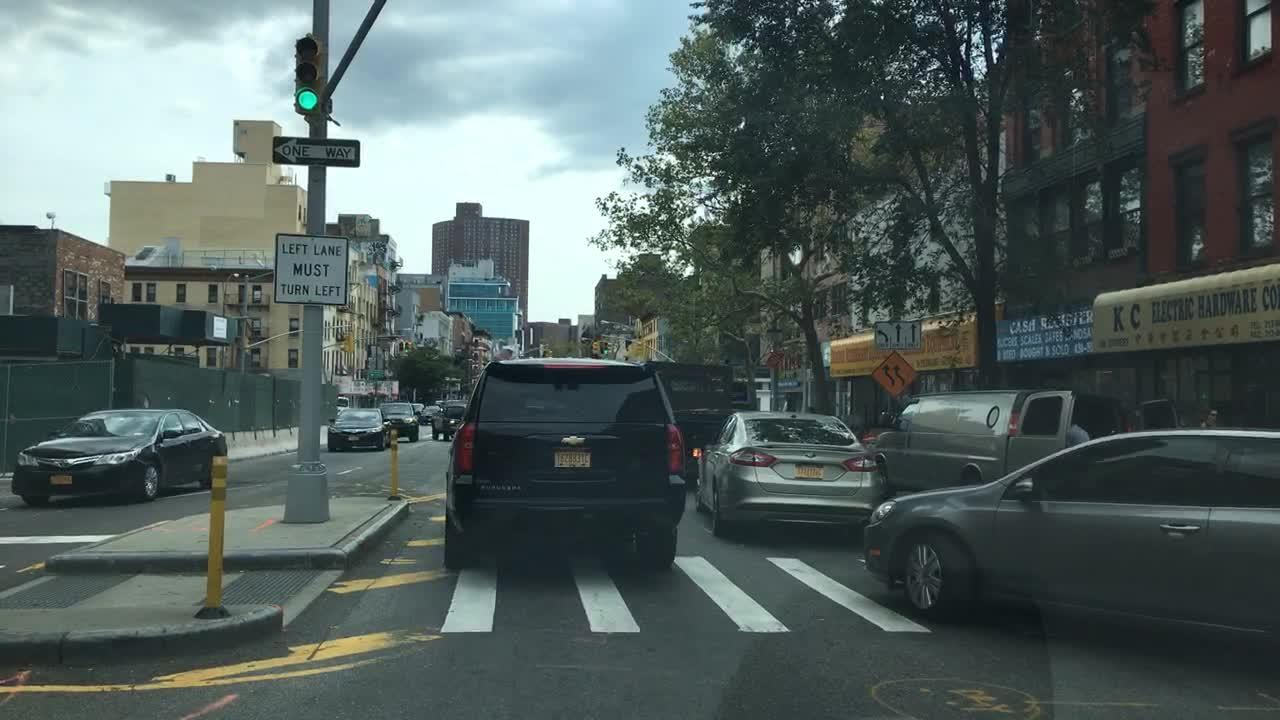chevrolet: (556, 432, 590, 449)
